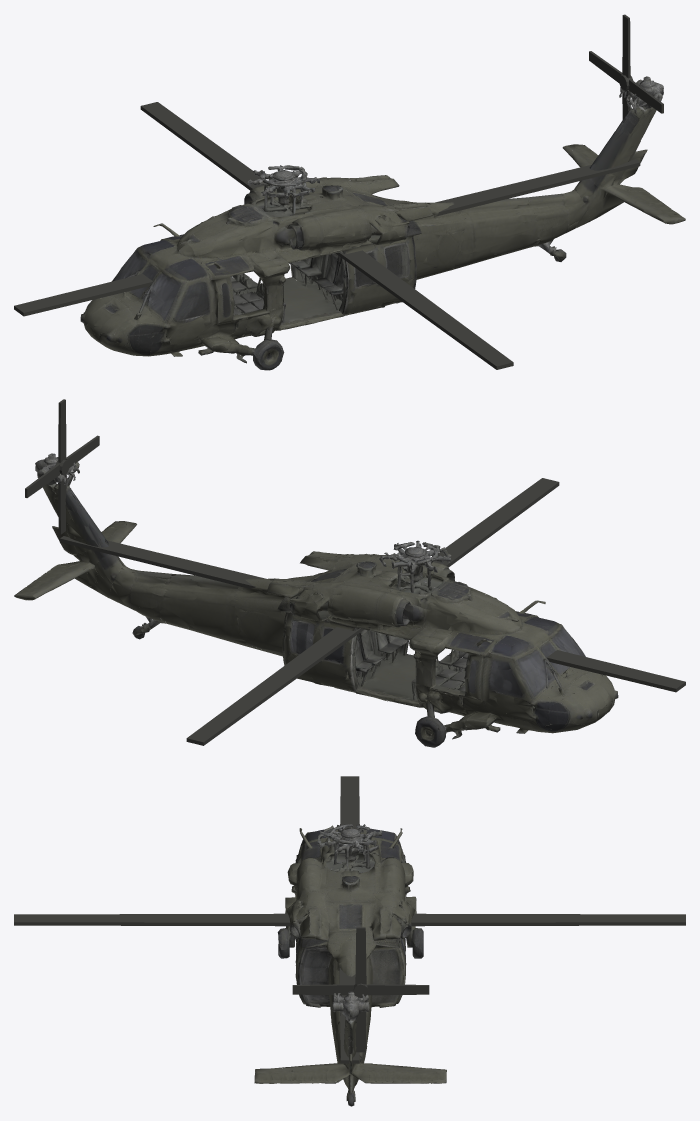
The model's file is helikopter_govde.glb.
3 renders of one model, top to bottom at view 1: azimuth 30°, elevation 25°; view 2: azimuth 150°, elevation 25°; view 3: azimuth 270°, elevation 25°, orthographic. The views are drawn at different scales.
Parts seen in each view (by area): view 1: govde, rotor, kuyruk_rotor; view 2: govde, rotor, kuyruk_rotor; view 3: govde, rotor, kuyruk_rotor.
Boxes of the visible parts, x1,y1,x2,y2 form: govde: [80, 76, 685, 370]; rotor: [14, 102, 640, 369]; kuyruk_rotor: [589, 14, 663, 119]; govde: [14, 453, 618, 747]; rotor: [60, 478, 685, 745]; kuyruk_rotor: [25, 399, 99, 534]; govde: [254, 824, 446, 1106]; rotor: [14, 776, 685, 1063]; kuyruk_rotor: [292, 927, 429, 1052].
Size of the model in its own units: 20.79 by 6.97 by 19.88.
2 materials, 1 textured.
